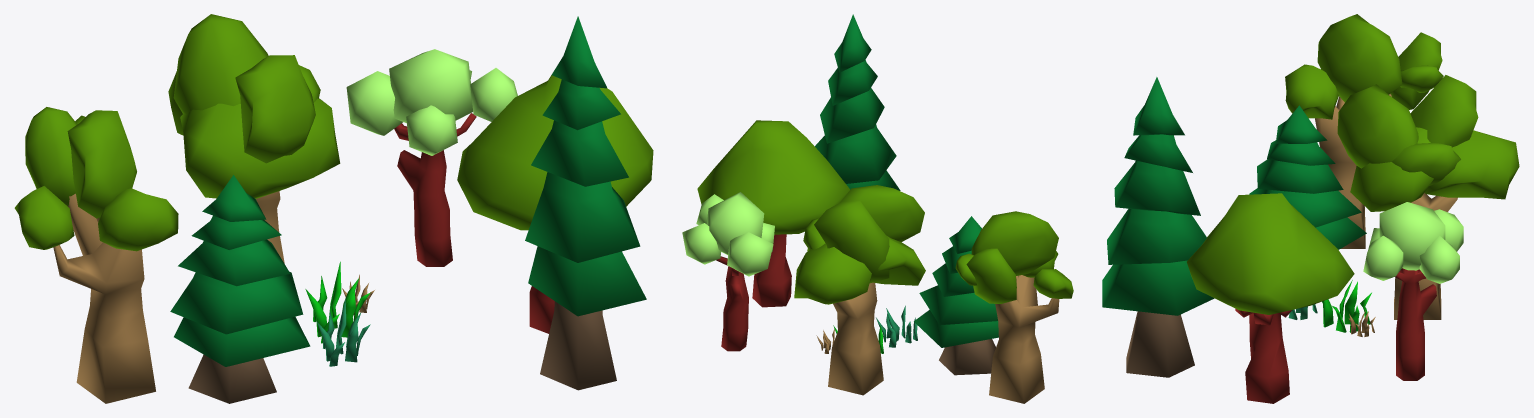
Rendered from trees.fbx.
3 renders of one model, left to right at view 1: azimuth 30°, elevation 25°; view 2: azimuth 150°, elevation 25°; view 3: azimuth 270°, elevation 25°, orthographic. The views are drawn at different scales.
Parts seen in each view (by area): view 1: Cube, Cylinder.001, Cube.001, Cylinder, Cylinder.003, Cylinder.002, Plane.001, Plane; view 2: Cube.001, Cube, Cylinder.002, Cylinder.001, Cylinder.003, Cylinder, Plane; view 3: Cylinder.001, Cube.001, Cylinder.002, Cube, Cylinder.003, Cylinder, Plane.001.
Boxes of the visible parts, x1,y1,x2,y2 form: Cube: (14, 107, 178, 403); Cylinder.001: (525, 16, 646, 390); Cube.001: (168, 14, 340, 263); Cylinder: (170, 175, 310, 403); Cylinder.003: (346, 49, 517, 266); Cylinder.002: (457, 75, 653, 333); Plane.001: (305, 261, 370, 343); Plane: (316, 298, 370, 366); Cube.001: (794, 185, 925, 395); Cube: (955, 211, 1073, 403); Cylinder.002: (697, 120, 849, 307); Cylinder.001: (815, 14, 900, 190); Cylinder.003: (682, 192, 774, 351); Cylinder: (914, 216, 998, 375); Plane: (876, 305, 917, 347); Cylinder.001: (1102, 77, 1214, 377); Cube.001: (1337, 75, 1519, 319); Cylinder.002: (1187, 193, 1354, 403); Cube: (1285, 14, 1443, 248); Cylinder.003: (1363, 202, 1463, 380); Cylinder: (1249, 105, 1366, 249); Plane.001: (1322, 280, 1371, 332).
Size of the model in its own units: 2269 by 1404 by 1768.
